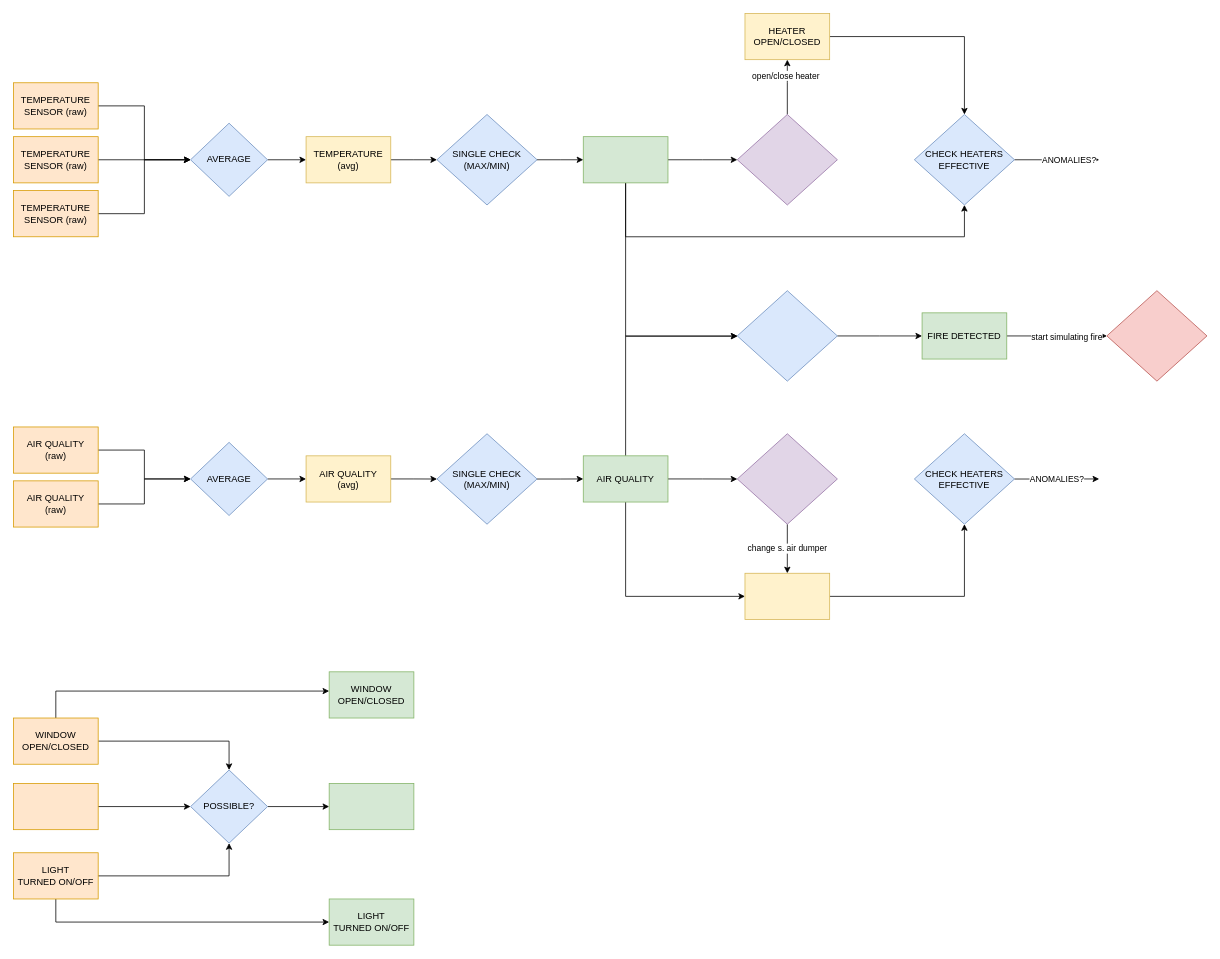
Some shapes in this 1220 by 959 pixel diagram are drawn without their labels. Here are the shapes that lost their labels. From the top down, the box of each, then its label:
(583, 136, 668, 183): TEMPERATURE
(737, 114, 837, 205): HEATERS CONTROLLER
(737, 290, 837, 381): CHECK FIRE (AND)
(1106, 290, 1207, 381): FIRE SIMULATION
(737, 433, 837, 524): SUPPLY AIR DUMPER CONTROLLER
(744, 572, 830, 619): SUPPLY AIR DUMPER CHANGED
(13, 783, 98, 830): PRESENCE
(328, 783, 414, 830): PRESENCE (checked)
